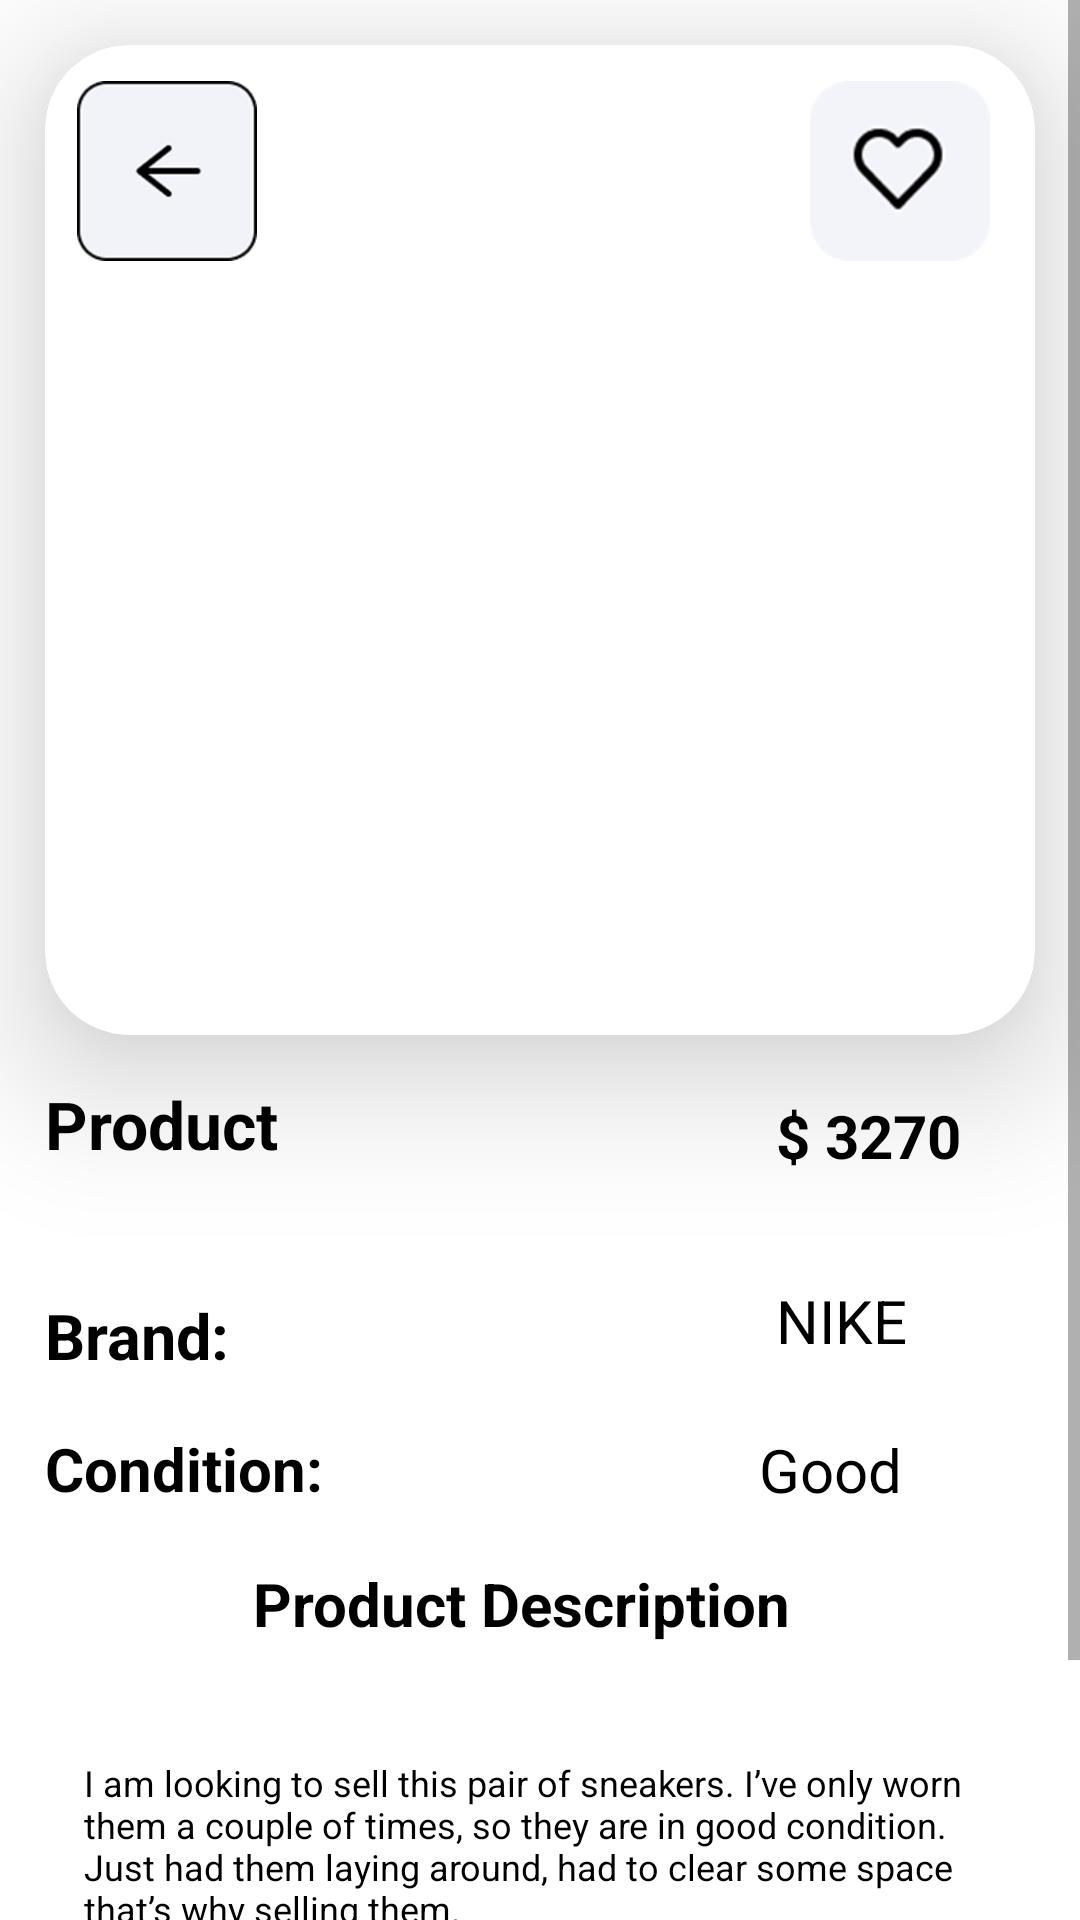

Locate icon controls on the screen. Image size 1080×1920, boxes as bbox(x1, y1, x2, y2).
heartnofill: bbox(810, 81, 990, 261)
